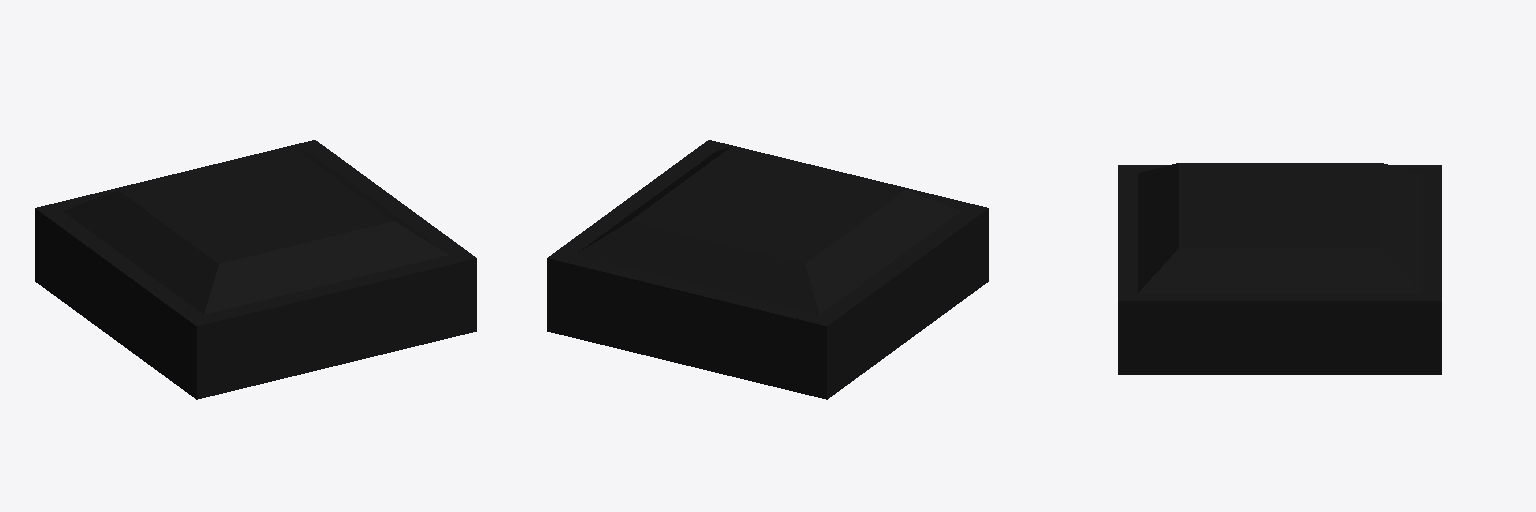
File: MetalChocolate.obj
3 views of the same model, side by side, from view 1: azimuth 30°, elevation 25°; view 2: azimuth 150°, elevation 25°; view 3: azimuth 270°, elevation 25° (orthographic).
Visible parts, largest first — view 1: Union1; view 2: Union1; view 3: Union1.
Boxes of the visible parts, <box> form: Union1: <box>35,140,476,399</box>; Union1: <box>547,140,988,399</box>; Union1: <box>1118,163,1441,374</box>.
Bounding box in the file's own units: 4 × 1.38 × 4.